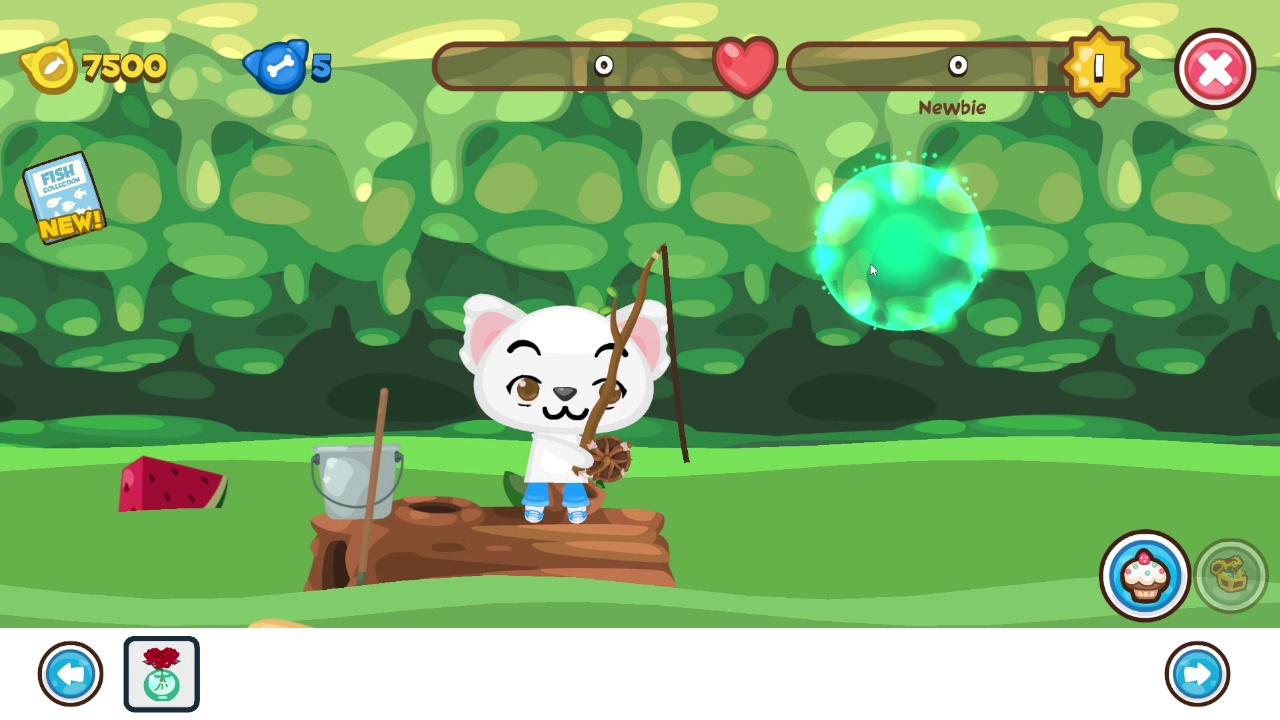point: (815, 159, 988, 331)
